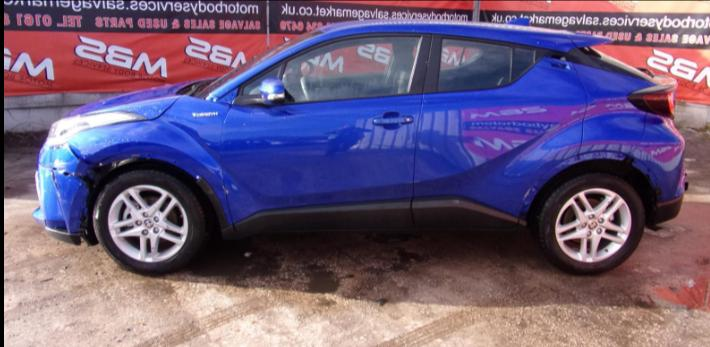Broken part: (69, 151, 228, 246), (32, 142, 99, 234)
Dent: (146, 117, 222, 183), (66, 141, 95, 167), (111, 121, 149, 139)
Missing part: (519, 151, 665, 221)
Scratch: (52, 156, 73, 173), (56, 189, 69, 203), (65, 171, 85, 178)
